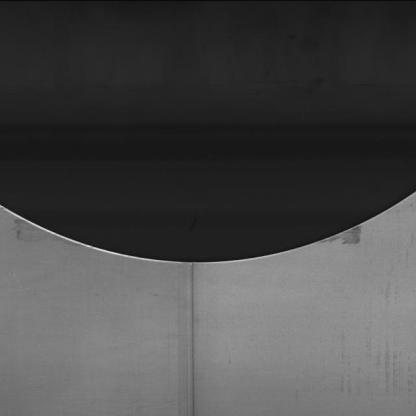crescent_gap: (2, 176, 416, 274)
welding_line: (170, 253, 209, 415)
